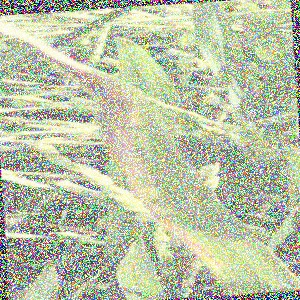Leaf_Blast: (102, 78, 189, 193)
